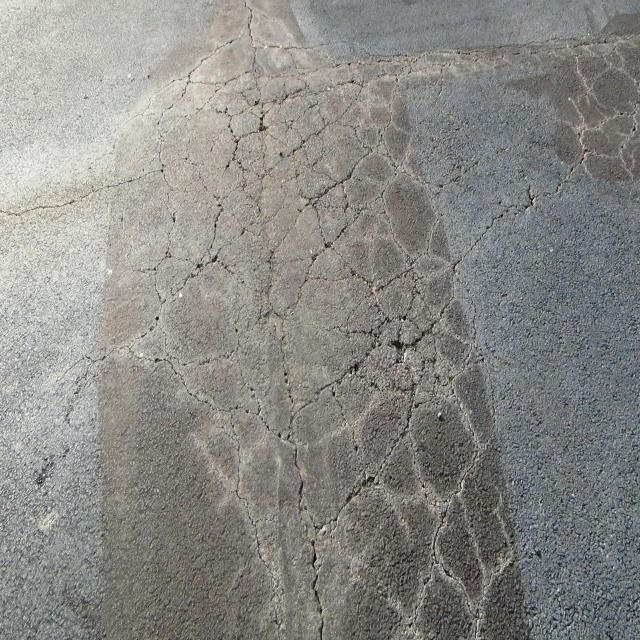Drain Hole: (198, 45, 478, 522)
